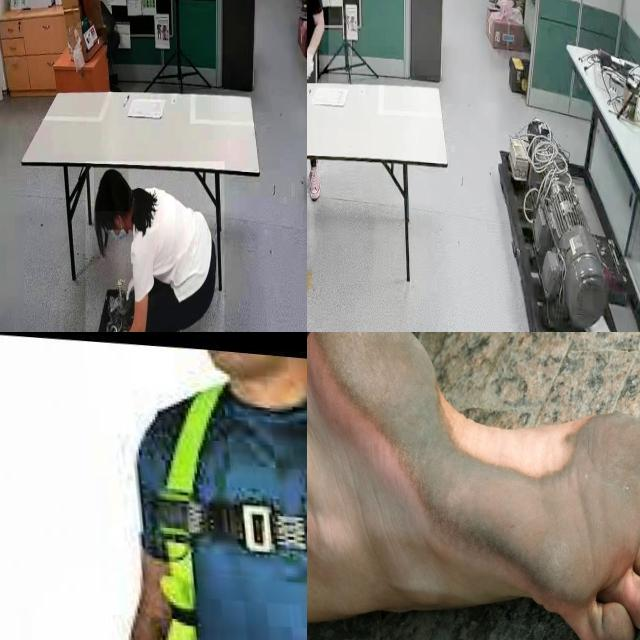Barefoots: (307, 332, 640, 640)
Harness: (158, 386, 307, 640)
hand_glove: (307, 47, 318, 85)
head_nohelmet: (94, 168, 129, 212)
person: (85, 161, 224, 332)
shoes: (307, 165, 322, 200)
